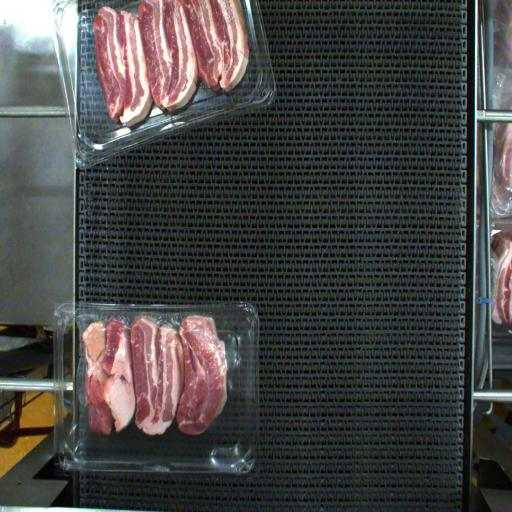unsealed: (75, 311, 247, 385)
